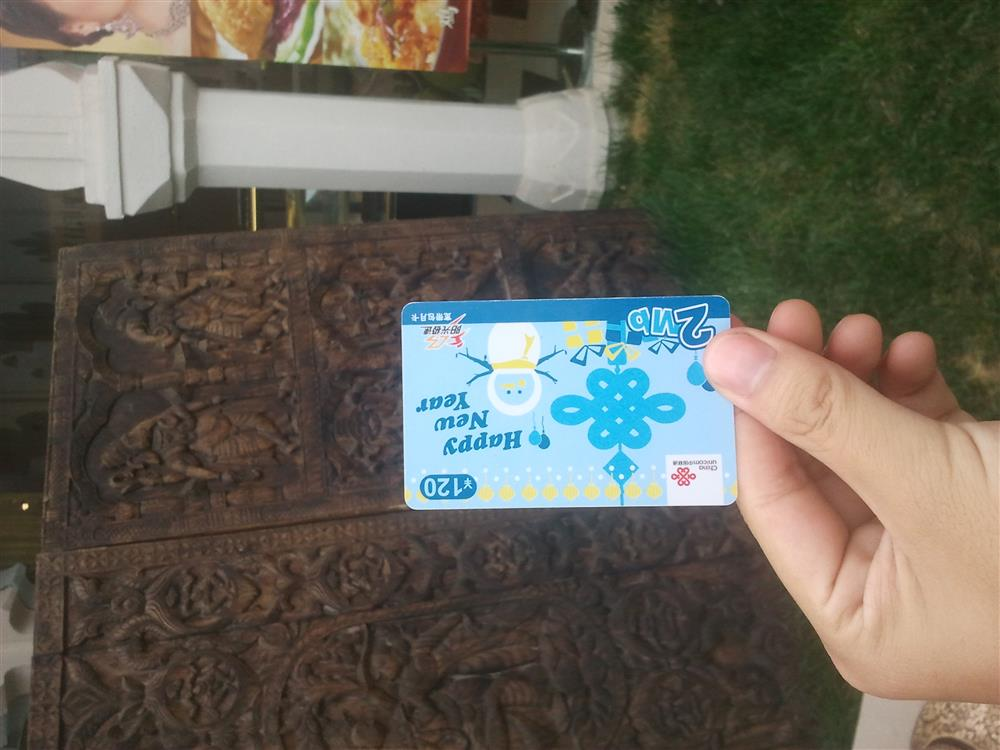china_unicom_card: (391, 278, 747, 530)
